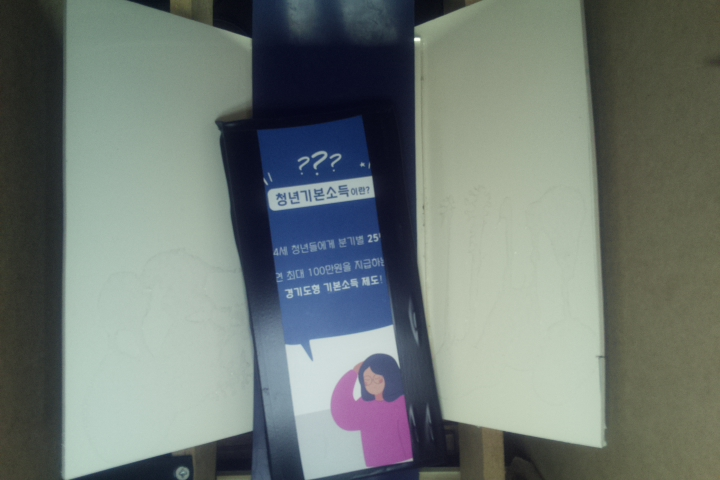book: (218, 104, 445, 480)
